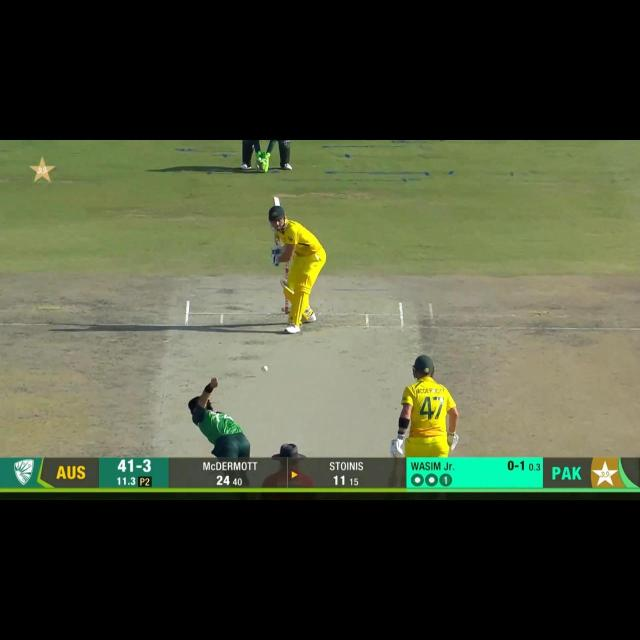bat: (272, 196, 282, 208)
toe: (272, 195, 282, 207)
